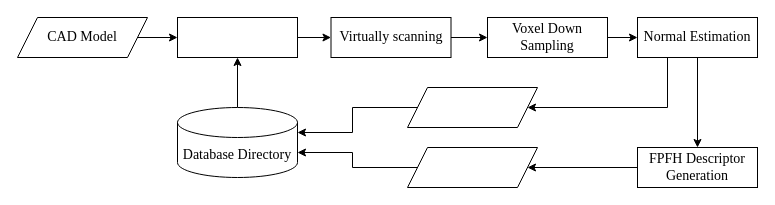
The diagram is 775 pixels wide and 205 high, and some of its shapes have lost their labels. The centre of each missing label's shape, as x and y in pixels:
"Define Camera View Point" goes at (237,37).
"Feature Descriptor" goes at (472,167).
"Partial view point cloud" goes at (472,107).
